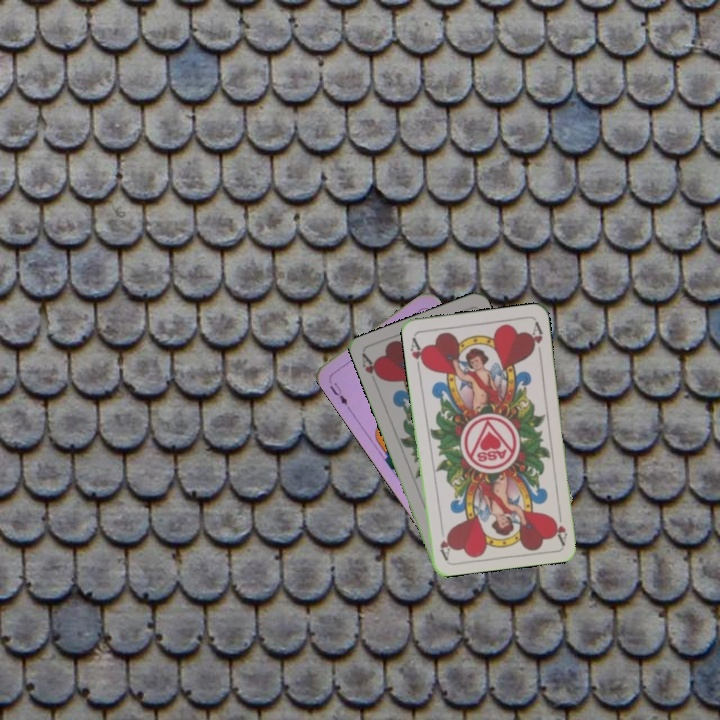EU: (324, 374, 352, 411)
HA: (358, 350, 385, 389), (406, 334, 429, 373), (549, 505, 570, 546)
